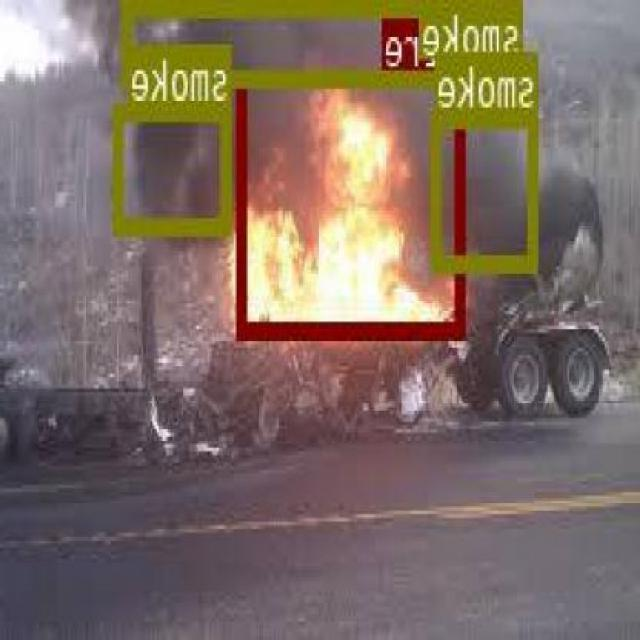Fire: (240, 68, 468, 337)
Smoke: (125, 0, 524, 82), (435, 108, 539, 269), (116, 102, 233, 230)
